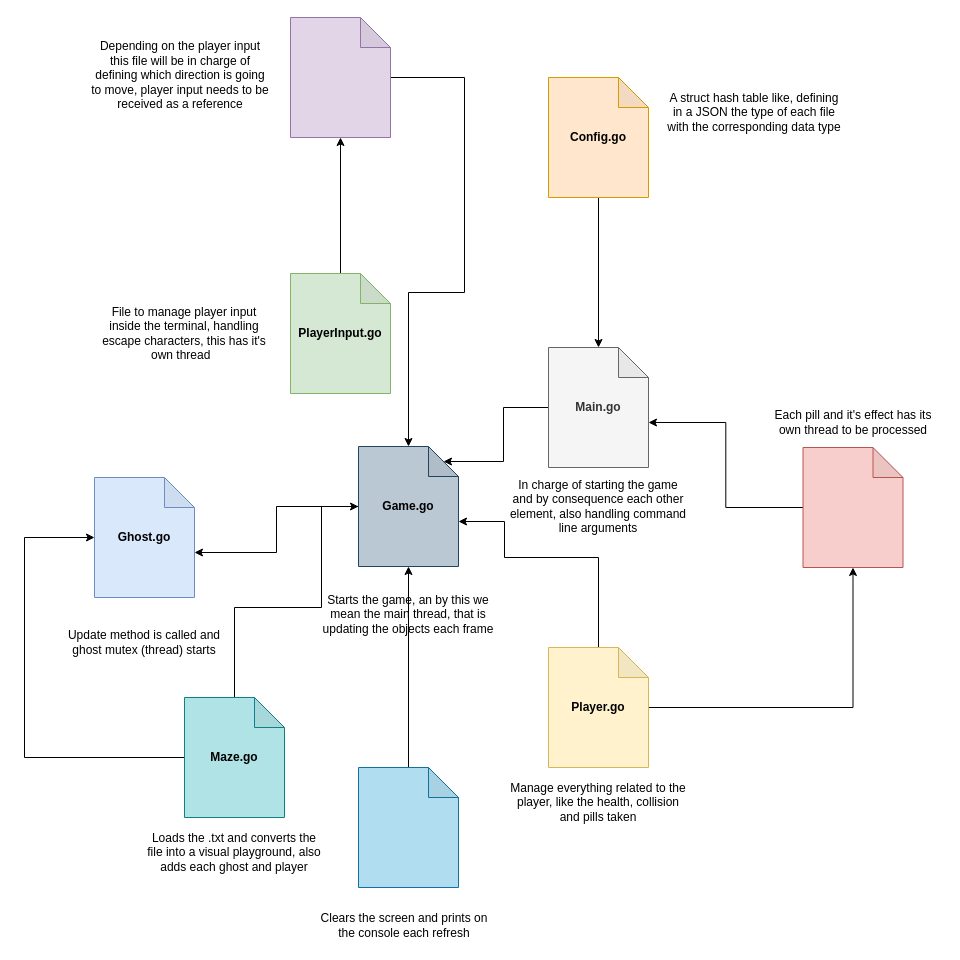
The diagram is 960 pixels wide and 960 high, and some of its shapes have lost their labels. The shapes that lost their labels are listed below. From the top down, each one's box as (x1, y1, x2, y2) in pixels, then its label:
(290, 16, 390, 138): Movement.go
(802, 446, 903, 568): Pill.go
(358, 766, 458, 888): Screen.go
